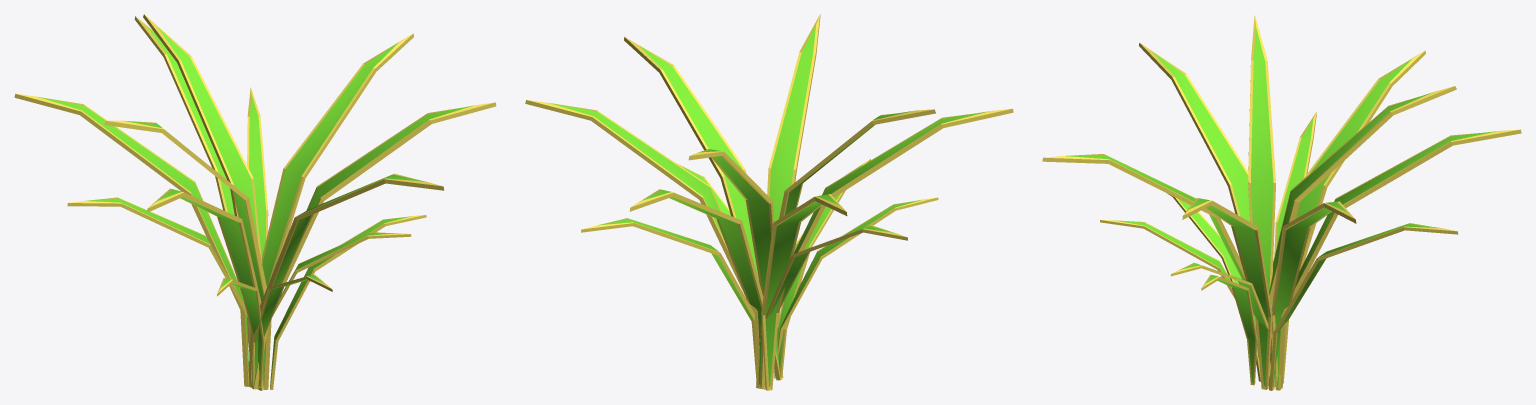
File: nan.fbx
3 views of the same model, side by side, from view 1: azimuth 30°, elevation 25°; view 2: azimuth 150°, elevation 25°; view 3: azimuth 270°, elevation 25° (orthographic). The views are drawn at different scales.
Parts seen in each view (by area): view 1: Line015; view 2: Line015; view 3: Line015.
Boxes of the visible parts, x1,y1,x2,y2 form: Line015: [14, 14, 496, 390]; Line015: [525, 14, 1013, 390]; Line015: [1042, 15, 1521, 390].
Bounding box in the file's own units: 60.89 × 47.87 × 69.56.
